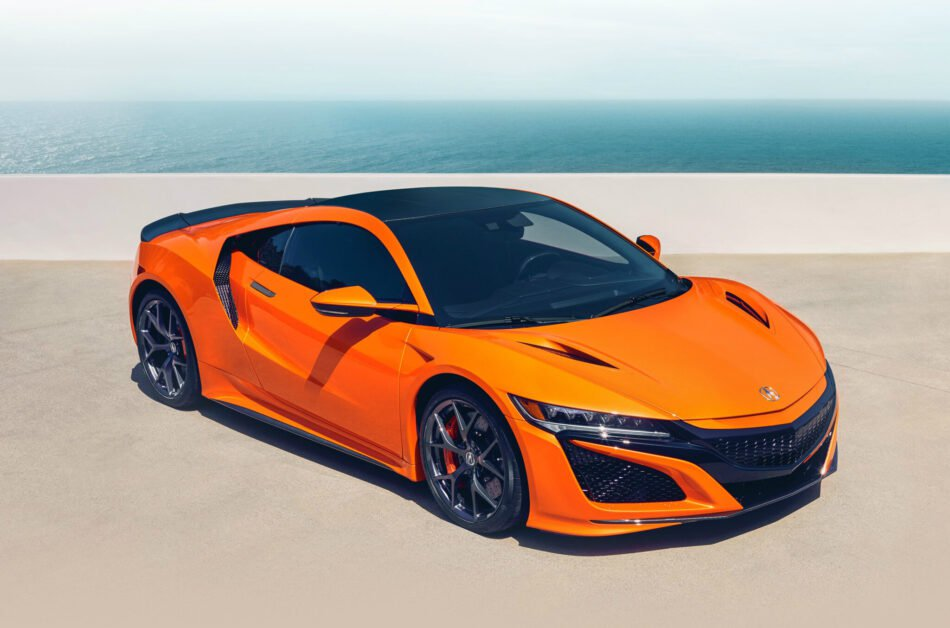car: (135, 179, 844, 538)
